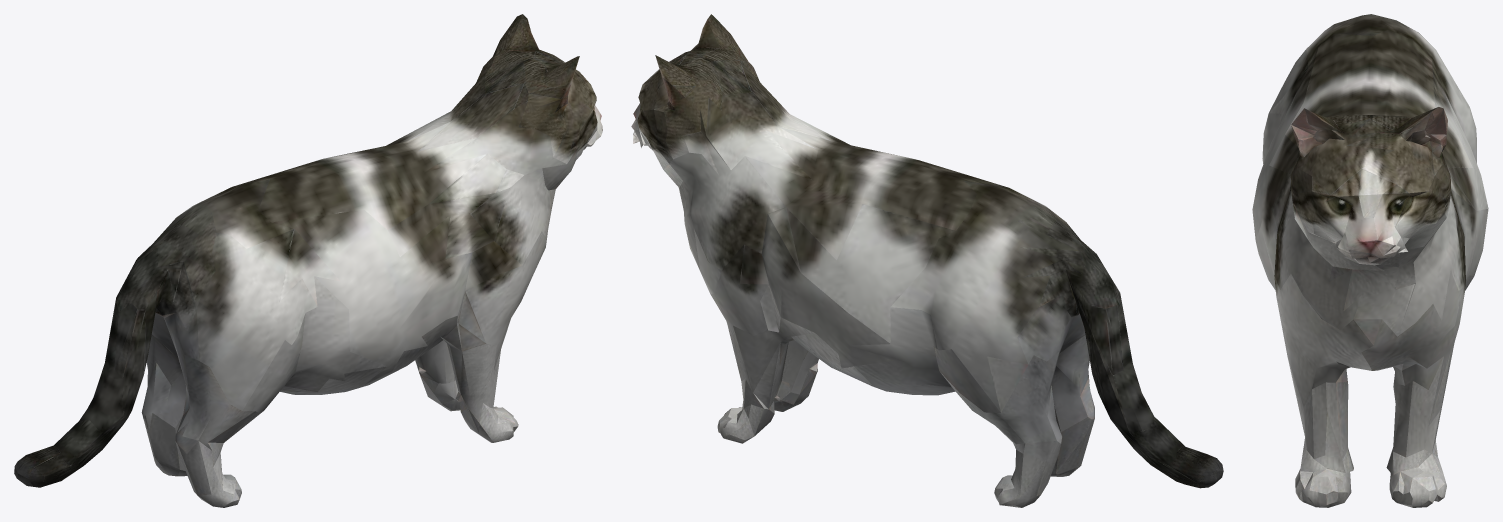
File: TOMBILICAT-lo.glb
3 renders of one model, left to right at view 1: azimuth 30°, elevation 25°; view 2: azimuth 150°, elevation 25°; view 3: azimuth 270°, elevation 25°, orthographic. The views are drawn at different scales.
Parts seen in each view (by area): view 1: output_unwrapped; view 2: output_unwrapped; view 3: output_unwrapped.
Boxes of the visible parts, bbox=[...] form: output_unwrapped: bbox=[14, 14, 602, 507]; output_unwrapped: bbox=[631, 14, 1223, 507]; output_unwrapped: bbox=[1252, 14, 1488, 507].
Bounding box in the file's own units: 1.66 × 1 × 0.49.
Materials: 1 (1 with a texture image).
